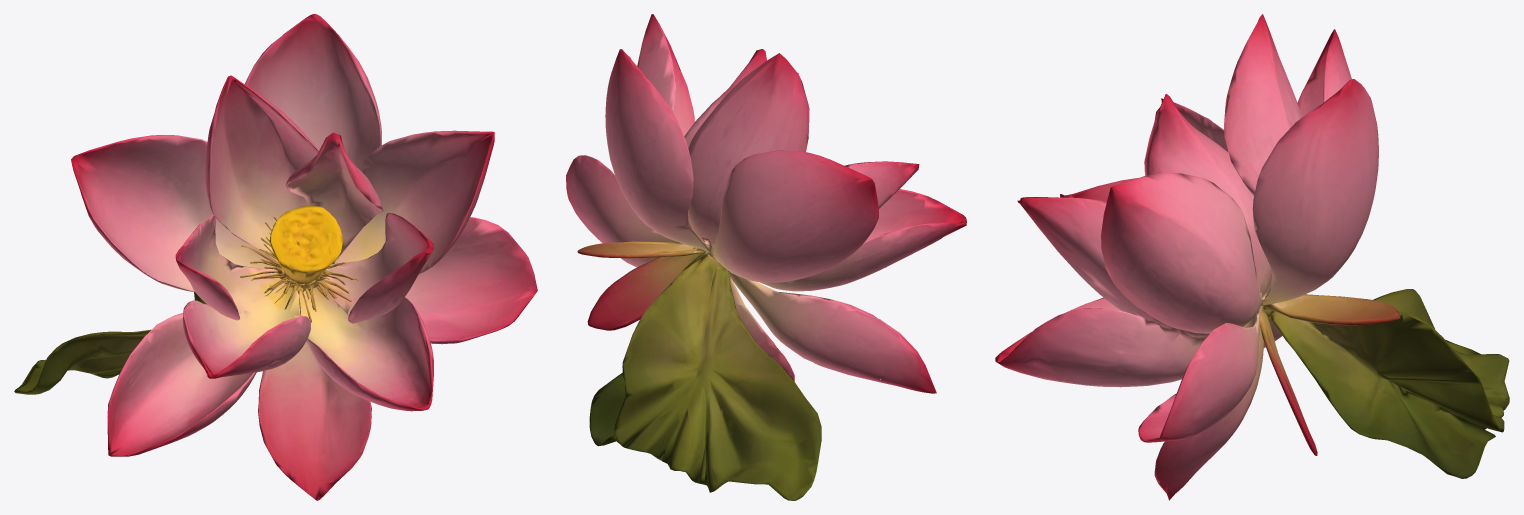
File: flower-luteal.glb
The picture shows the model from 3 angles, left to right: view 1: azimuth 30°, elevation 25°; view 2: azimuth 150°, elevation 25°; view 3: azimuth 270°, elevation 25°; orthographic projection. The views are drawn at different scales.
Parts seen in each view (by area): view 1: tripo_node_a743916c-c499-40c7-9410-e5398e598fdf; view 2: tripo_node_a743916c-c499-40c7-9410-e5398e598fdf; view 3: tripo_node_a743916c-c499-40c7-9410-e5398e598fdf.
Part boxes in pixels (box(x1,y1,x2,y2)): tripo_node_a743916c-c499-40c7-9410-e5398e598fdf: box(14, 14, 537, 500); tripo_node_a743916c-c499-40c7-9410-e5398e598fdf: box(566, 14, 966, 500); tripo_node_a743916c-c499-40c7-9410-e5398e598fdf: box(995, 14, 1509, 500).
Size of the model in its own units: 0.9801 by 0.947 by 0.9525.
Materials: 1 (1 with a texture image).
